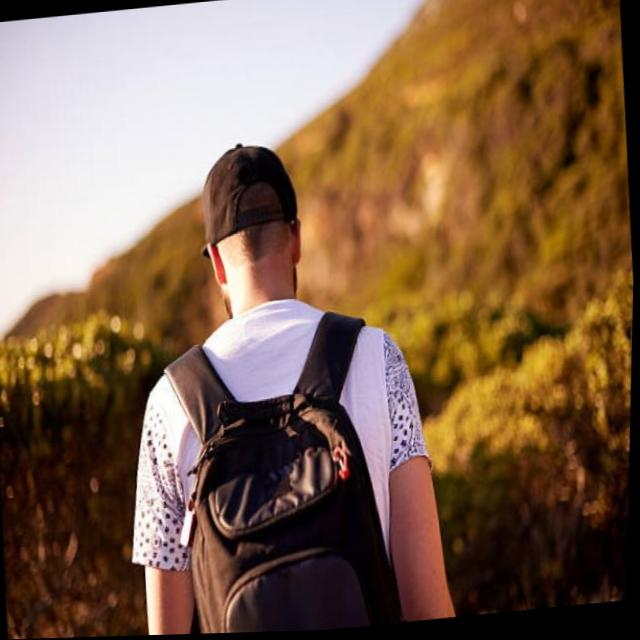no helmet: (178, 134, 339, 333)
